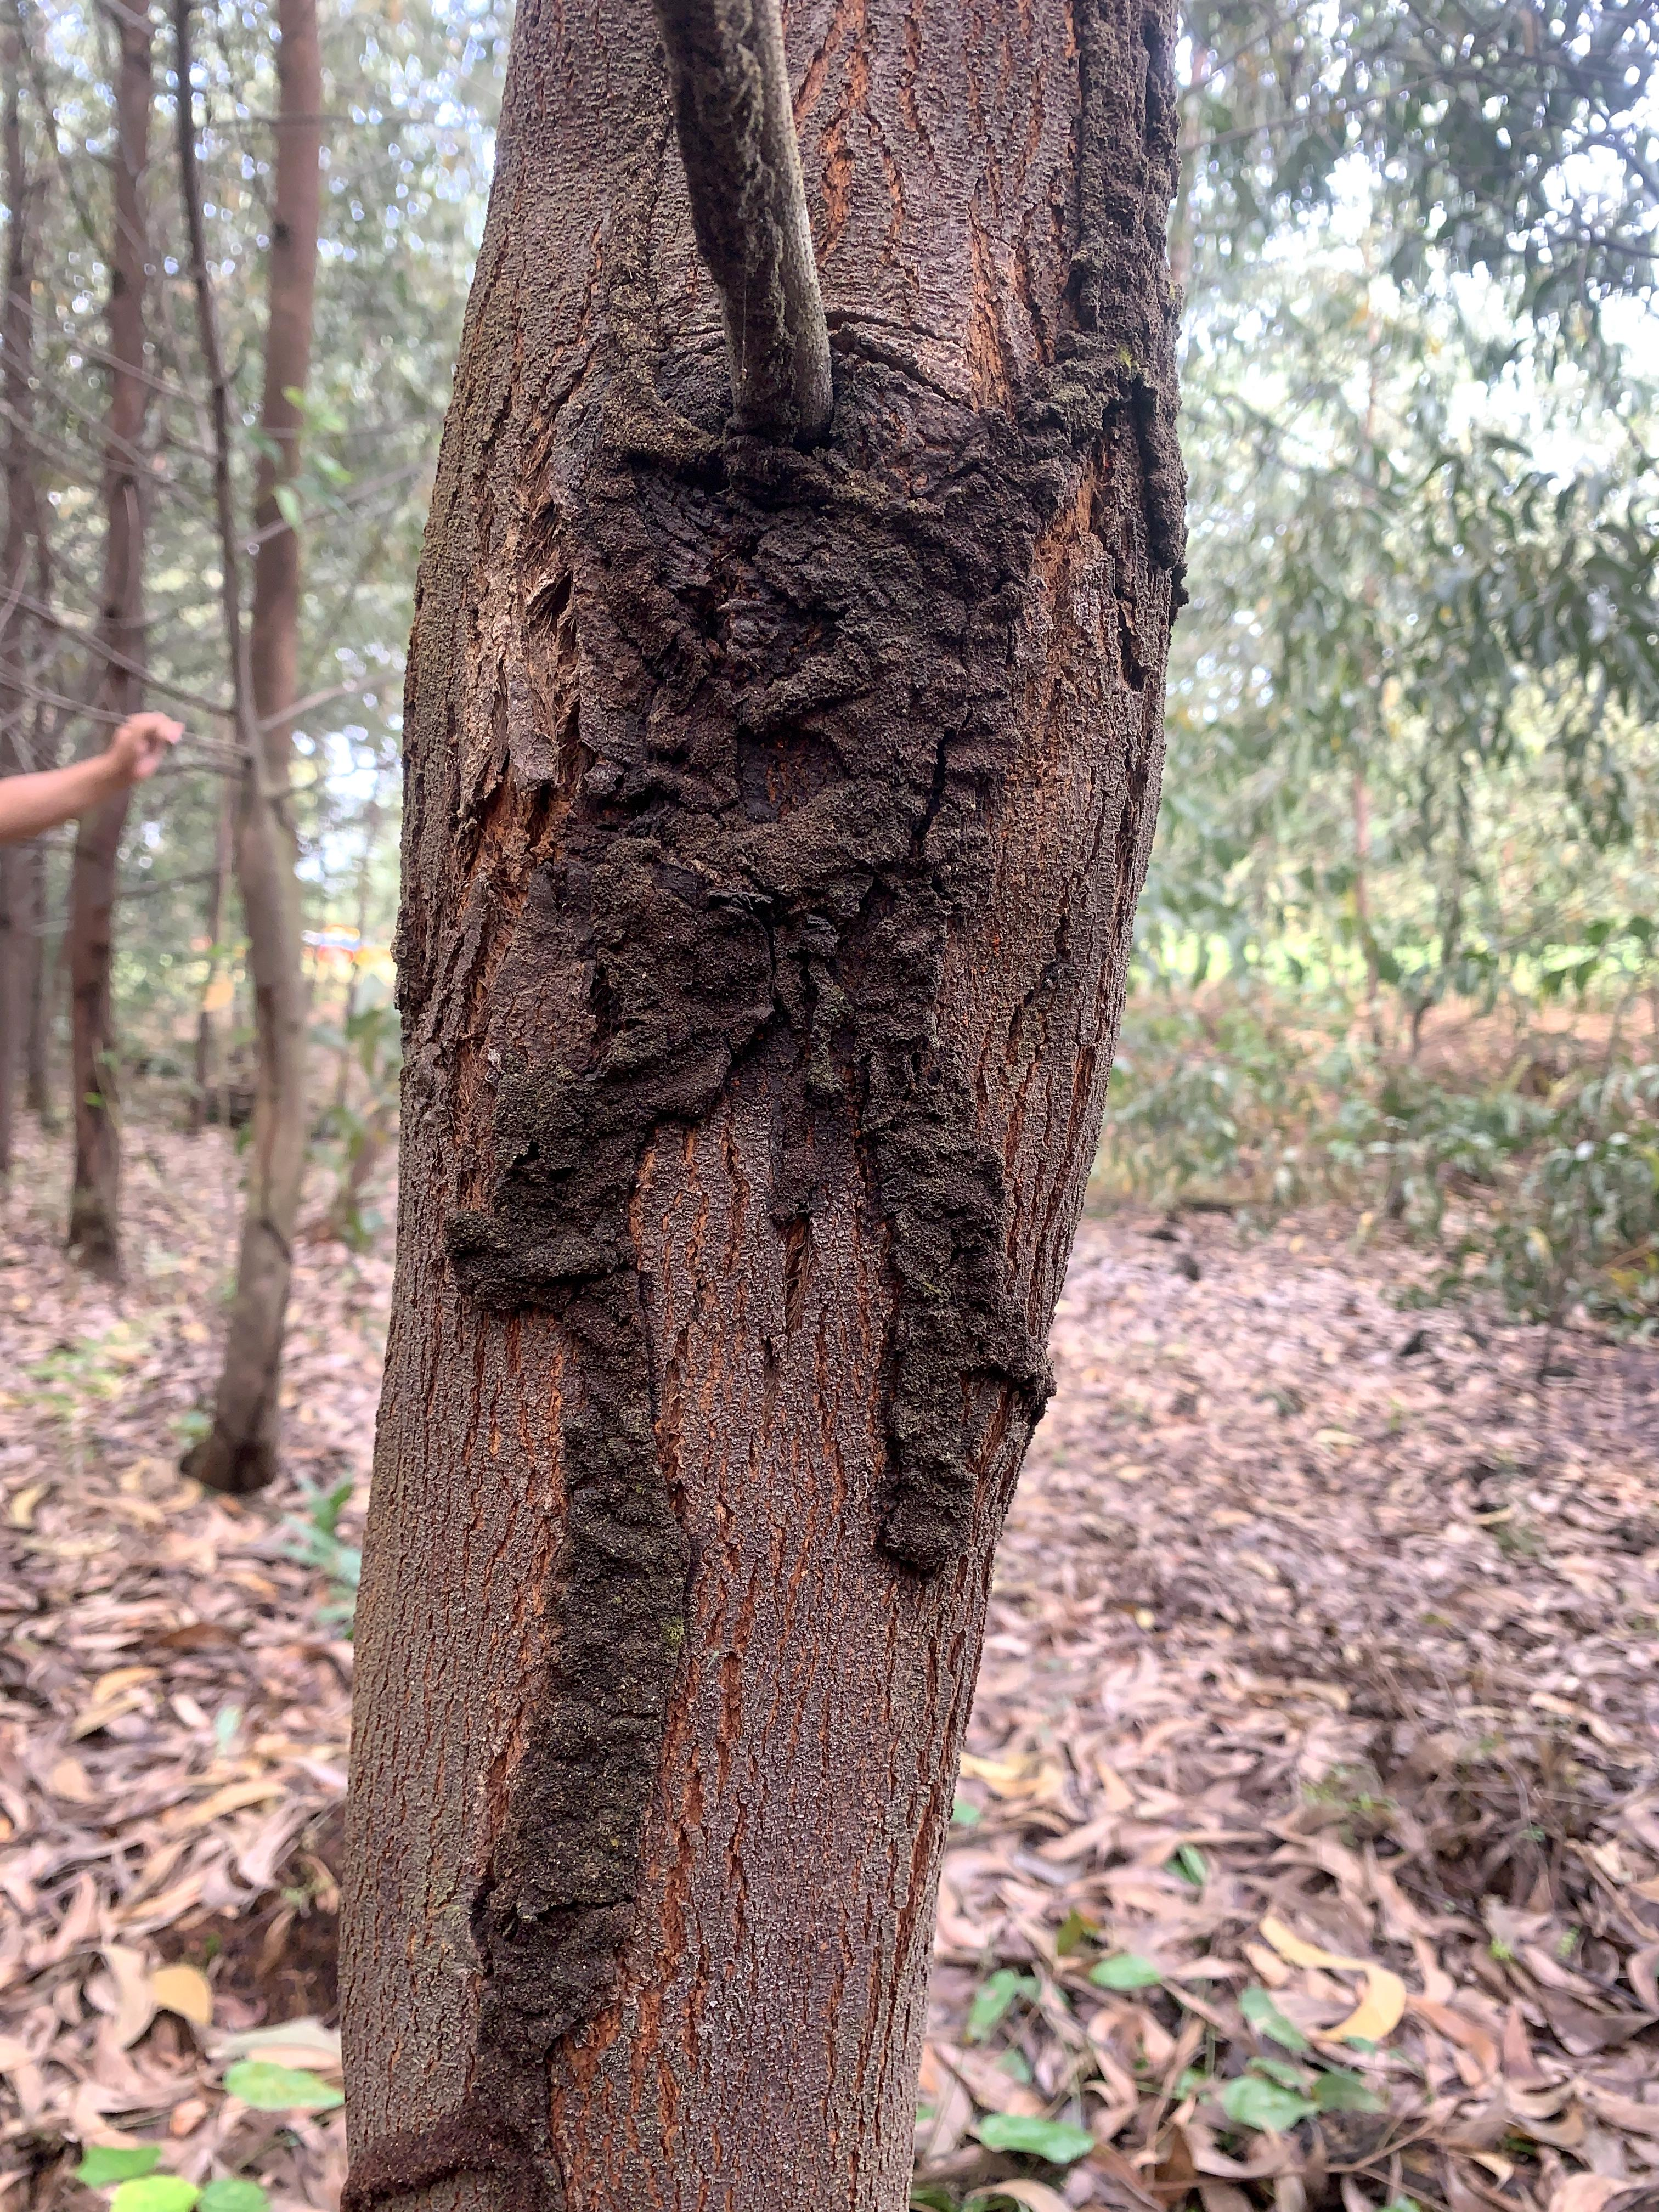Termite - Nest: (446, 336, 1091, 2212)
